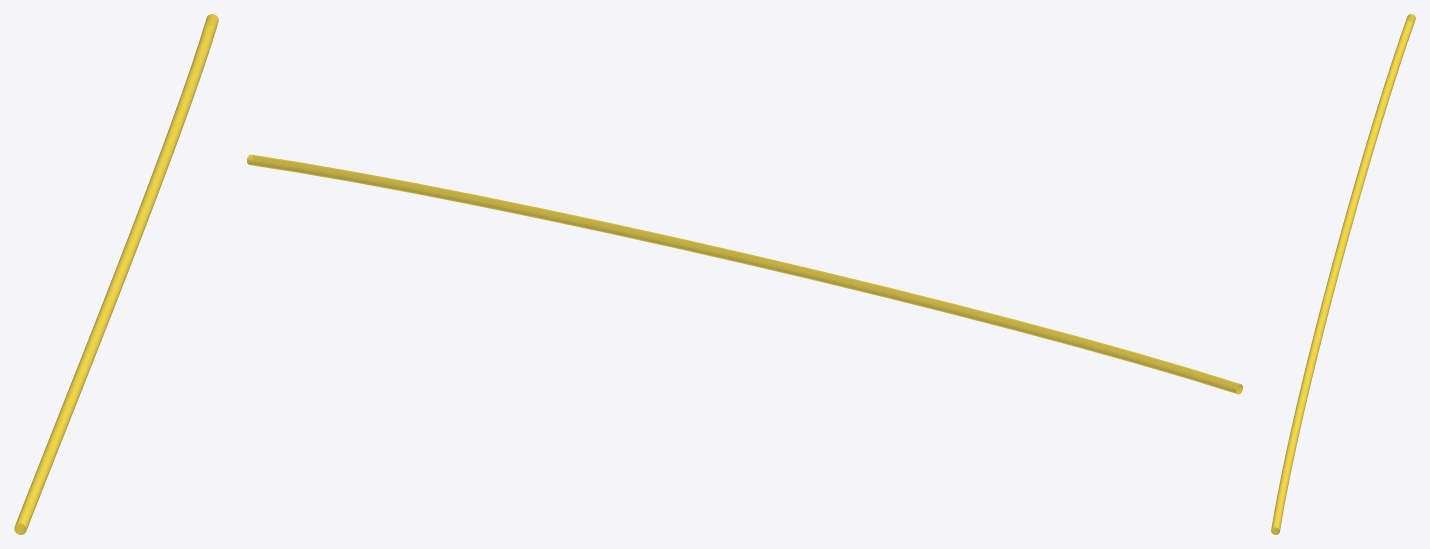
File: Event_17758602_track_82.fbx
The picture shows the model from 3 angles, left to right: view 1: azimuth 90°, elevation 25°; view 2: azimuth 150°, elevation 25°; view 3: azimuth 270°, elevation 25°; orthographic projection. The views are drawn at different scales.
Visible parts, largest first — view 1: Model; view 2: Model; view 3: Model.
Boxes of the visible parts, x1=… form: Model: x1=14, y1=14, x2=218, y2=534; Model: x1=247, y1=154, x2=1242, y2=394; Model: x1=1271, y1=14, x2=1415, y2=534.
Size of the model in its own units: 4.65 by 0.4181 by 0.6507.
